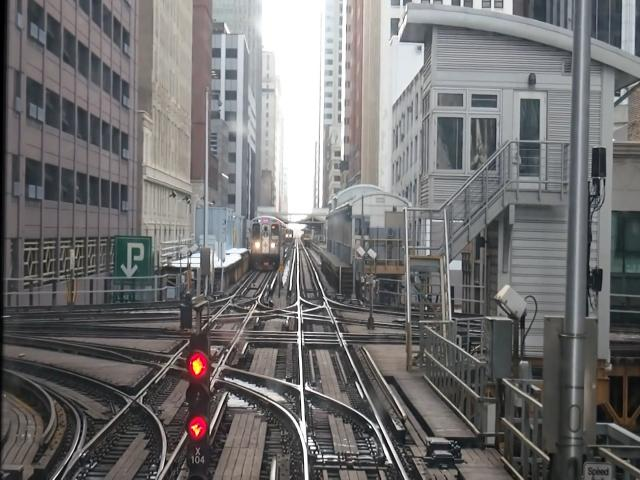signal light: (188, 333, 213, 473)
